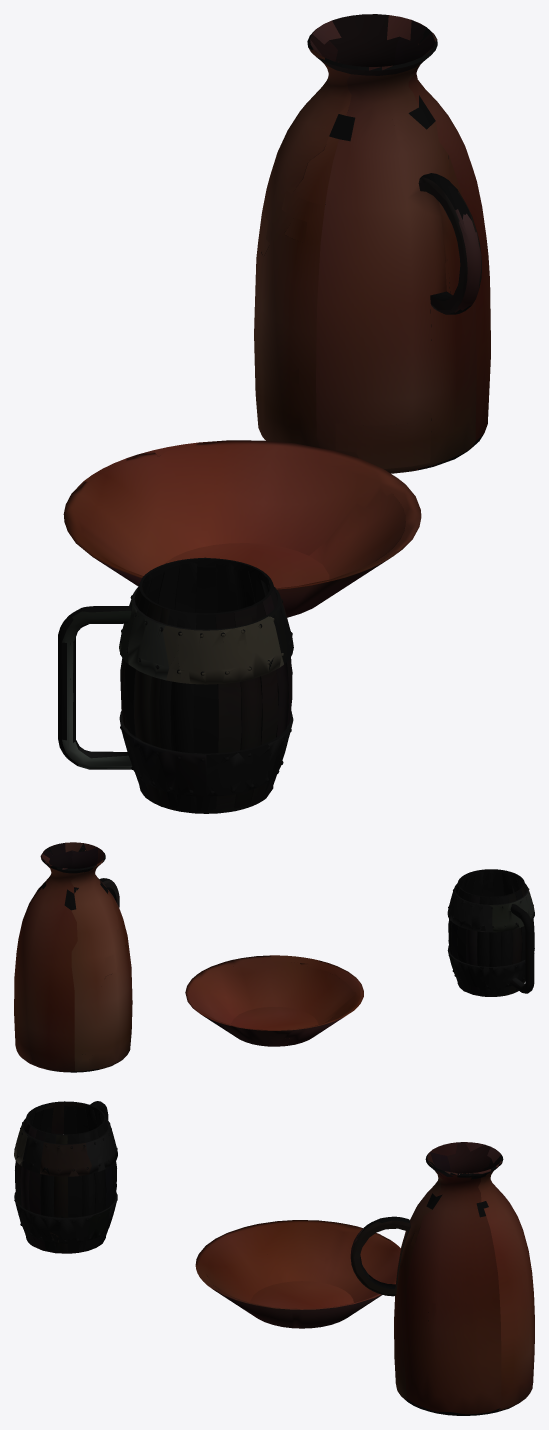
The model's file is bar ivan moro ornamenti 3.glb.
3 renders of one model, top to bottom at view 1: azimuth 30°, elevation 25°; view 2: azimuth 150°, elevation 25°; view 3: azimuth 270°, elevation 25°, orthographic. The views are drawn at different scales.
Parts seen in each view (by area): view 1: Object_37.004; view 2: Object_37.004; view 3: Object_37.004.
Part boxes in pixels (x1,y1,x2,y2): Object_37.004: (58,14,490,813); Object_37.004: (14,842,534,1072); Object_37.004: (14,1101,534,1415).
Bounding box in the file's own units: 0.6624 × 0.342 × 0.6976.
Materials: 1 (1 with a texture image).
